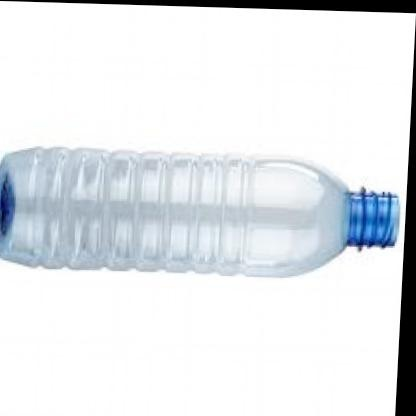trash: (0, 147, 398, 275)
